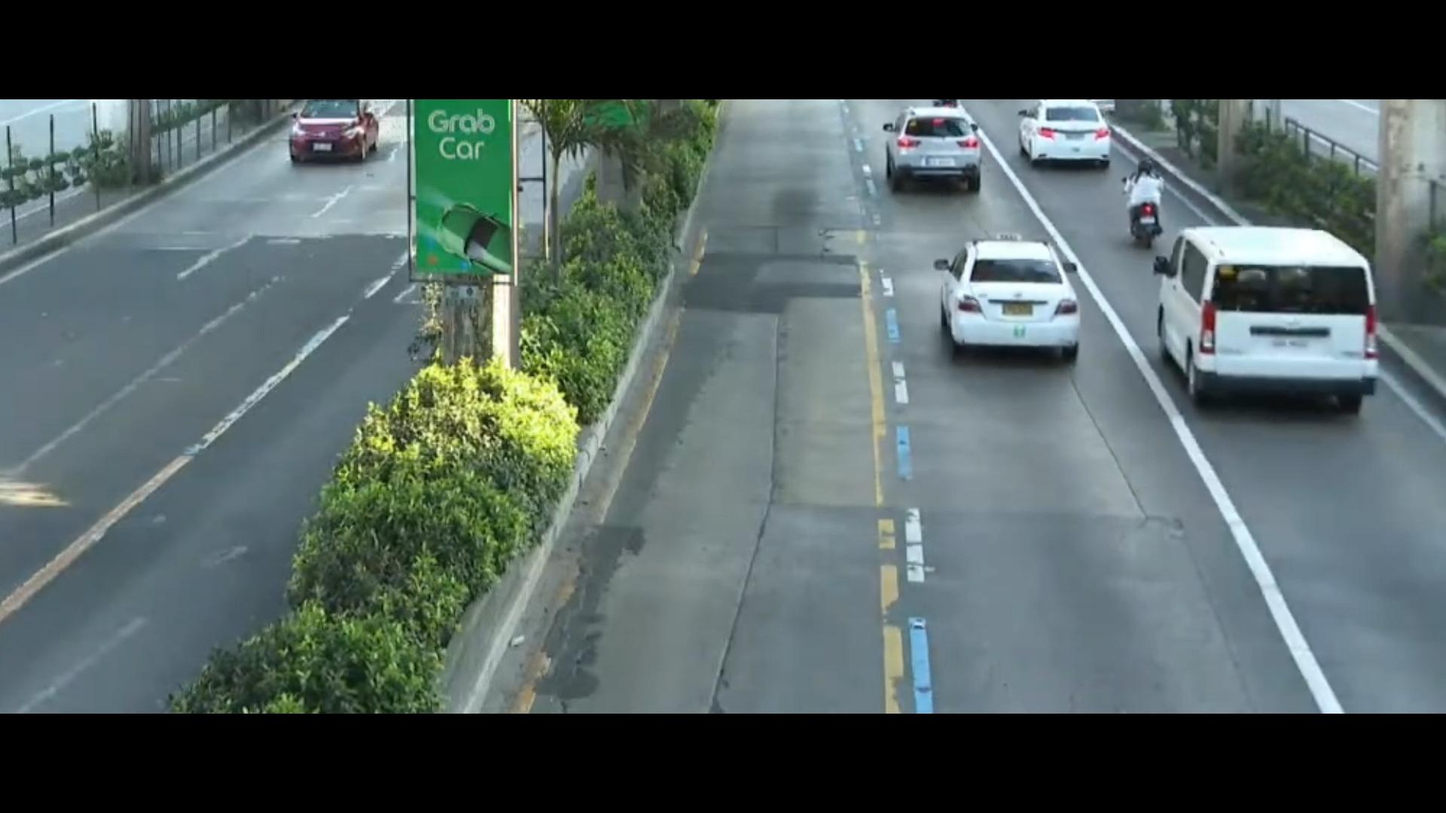Motorcycle: (1122, 157, 1198, 230)
SUV: (872, 98, 1003, 182)
Sedan: (915, 224, 1078, 351), (281, 100, 381, 166), (1022, 100, 1109, 160)
Van: (1139, 202, 1416, 429)
